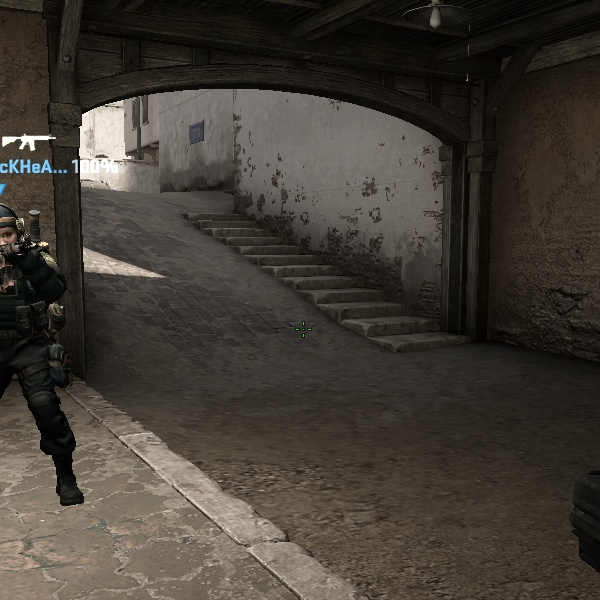ct_body: (0, 198, 97, 508)
ct_head: (0, 202, 36, 259)
